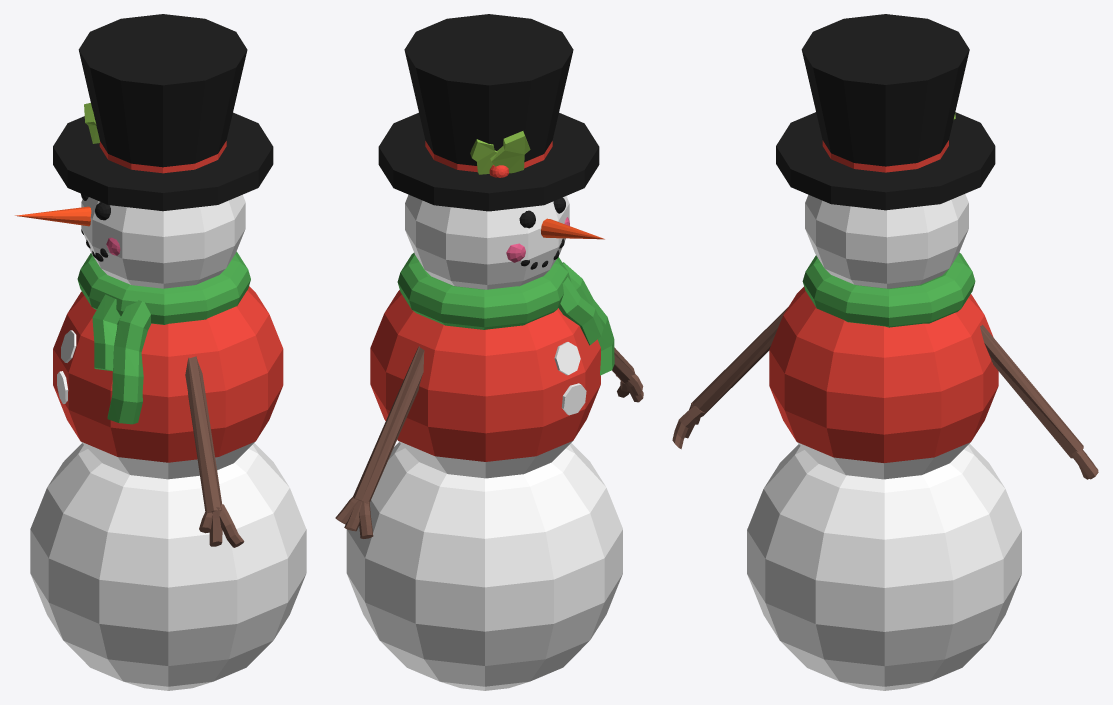
Rendered from snowman.obj.
3 views of the same model, side by side, from view 1: azimuth 30°, elevation 25°; view 2: azimuth 150°, elevation 25°; view 3: azimuth 270°, elevation 25° (orthographic).
Parts seen in each view (by area): view 1: group1522281990, group396693100, group24528579, group782497130, group818336702, group708977906, group927813173, group148953620, group53042870, group1128189315, group1901817716; view 2: group1522281990, group396693100, group24528579, group782497130, group818336702, group708977906, group62286769, group53042870, group927813173, group603932705, group1128189315, group1167757391 (+2 smaller); view 3: group1522281990, group396693100, group24528579, group818336702, group782497130, group708977906, group62286769, group148953620.
Boxes of the visible parts, <box> form: group1522281990: <box>30,443,306,690</box>; group396693100: <box>53,286,283,479</box>; group24528579: <box>78,14,247,173</box>; group782497130: <box>53,112,273,211</box>; group818336702: <box>81,195,245,288</box>; group708977906: <box>77,251,250,324</box>; group927813173: <box>107,300,151,424</box>; group148953620: <box>185,356,222,512</box>; group53042870: <box>92,294,120,371</box>; group1128189315: <box>15,206,91,226</box>; group1901817716: <box>219,504,244,547</box>; group1522281990: <box>346,442,622,690</box>; group396693100: <box>370,290,600,478</box>; group24528579: <box>404,14,573,172</box>; group782497130: <box>378,112,599,211</box>; group818336702: <box>405,194,569,289</box>; group708977906: <box>397,253,571,329</box>; group62286769: <box>353,346,424,503</box>; group53042870: <box>558,276,603,345</box>; group927813173: <box>562,262,614,375</box>; group603932705: <box>490,131,530,173</box>; group1128189315: <box>541,218,604,239</box>; group1167757391: <box>554,342,580,375</box>; group1522281990: <box>747,443,1021,690</box>; group396693100: <box>769,287,998,479</box>; group24528579: <box>801,14,969,172</box>; group818336702: <box>805,194,968,288</box>; group782497130: <box>776,112,995,210</box>; group708977906: <box>802,252,975,327</box>; group62286769: <box>980,324,1083,458</box>; group148953620: <box>690,307,787,417</box>.
Bounding box in the file's own units: 0.4444 × 1.04 × 0.6411.
